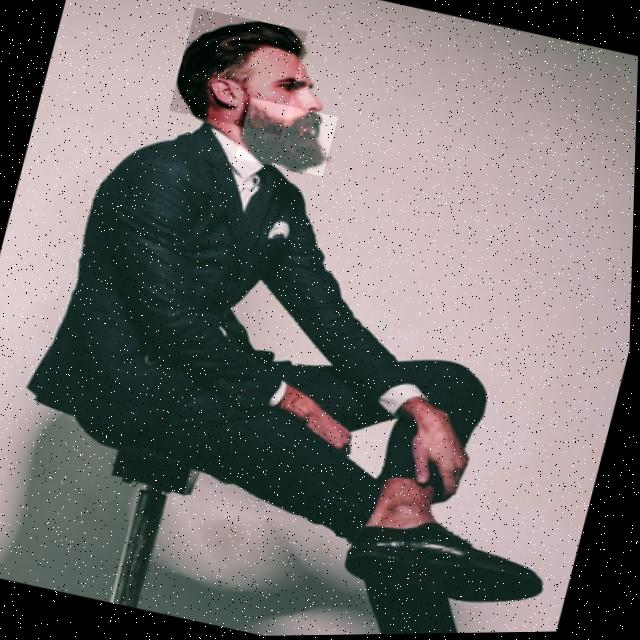beard: (242, 103, 328, 172)
hair: (179, 23, 304, 118)
